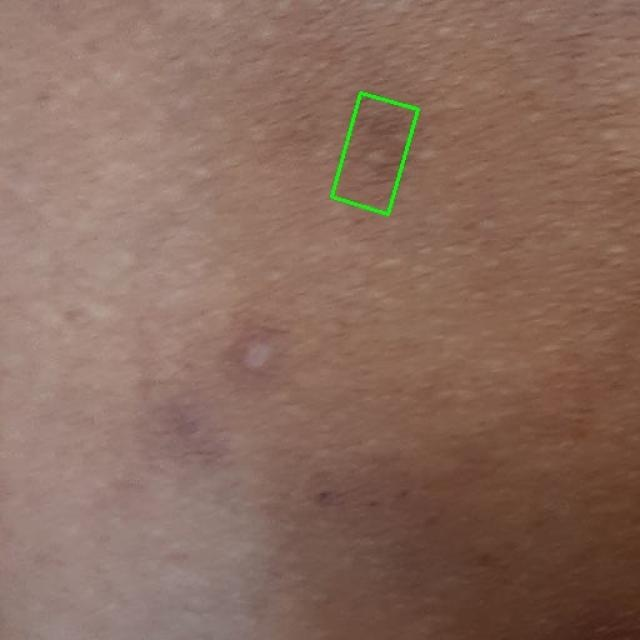Seborrheic Dermatitis: (331, 93, 419, 214)
